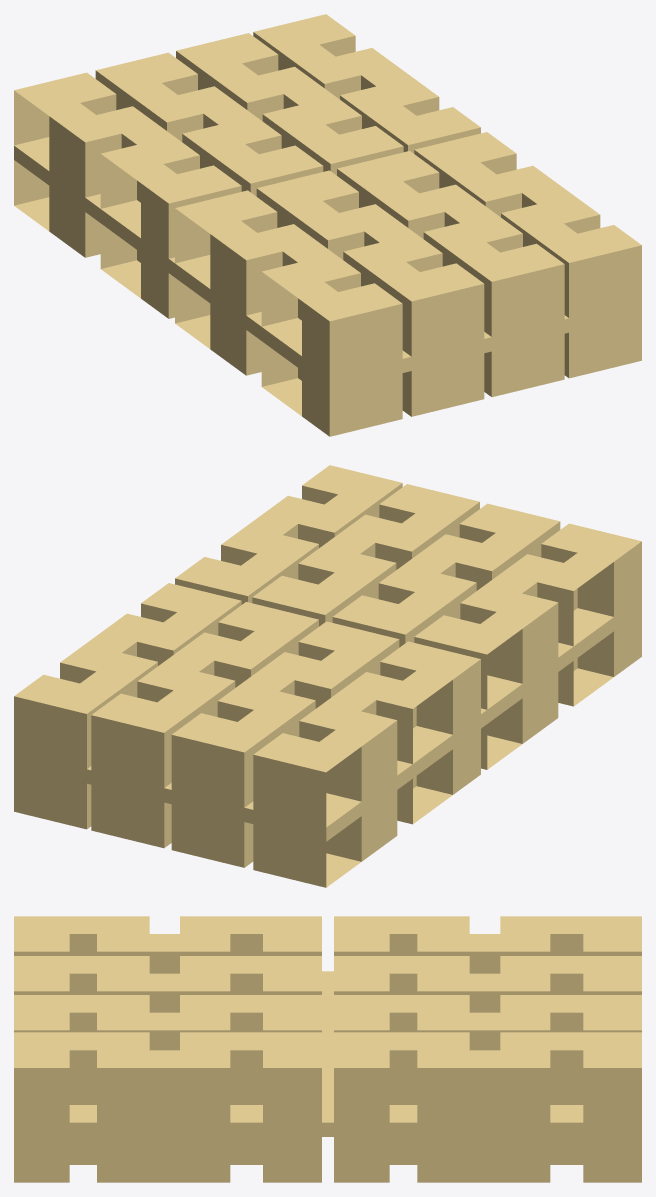
The model's file is ramen.fbx.
3 views of the same model, one above another, from view 1: azimuth 30°, elevation 25°; view 2: azimuth 150°, elevation 25°; view 3: azimuth 270°, elevation 25° (orthographic).
Parts seen in each view (by area): view 1: ramen; view 2: ramen; view 3: ramen.
Boxes of the visible parts, bbox=[...] form: ramen: bbox=[14, 14, 641, 436]; ramen: bbox=[14, 465, 641, 887]; ramen: bbox=[14, 916, 641, 1182].
Bounding box in the file's own units: 69.83 × 24.67 × 122.
